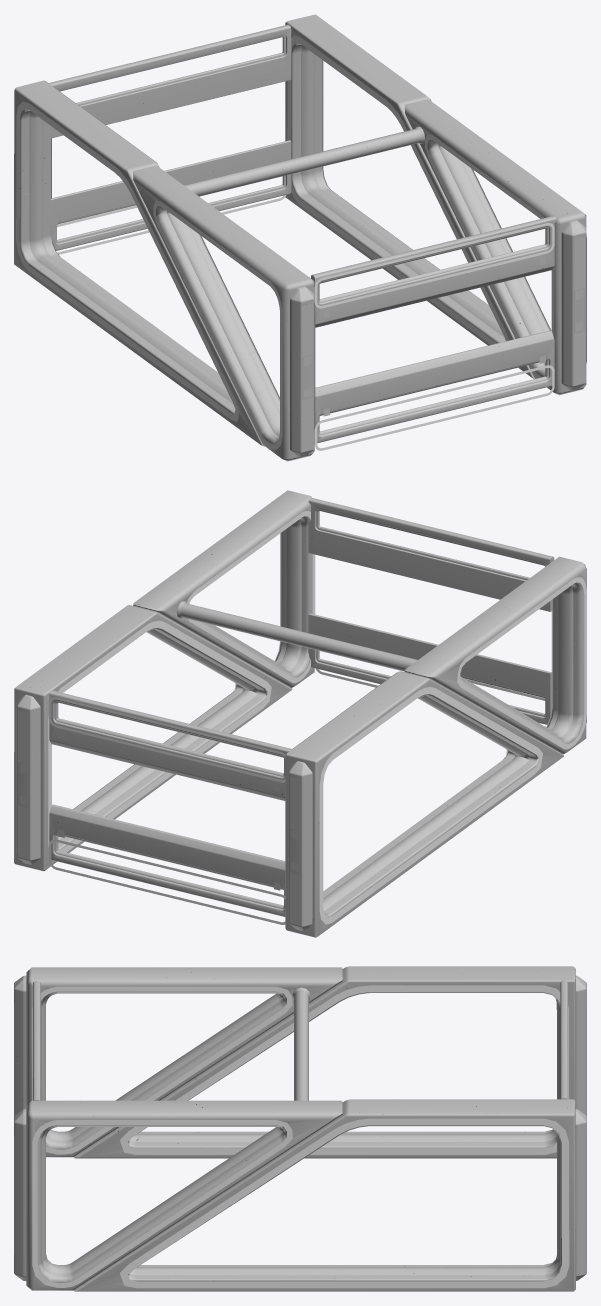
File: SM_Construction_1_Merged.fbx
The picture shows the model from 3 angles, top to bottom: view 1: azimuth 30°, elevation 25°; view 2: azimuth 150°, elevation 25°; view 3: azimuth 270°, elevation 25°; orthographic projection.
Visible parts, largest first — view 1: SM_Construction_1_Merged_LOD0; view 2: SM_Construction_1_Merged_LOD0; view 3: SM_Construction_1_Merged_LOD0.
Part boxes in pixels (x1,y1,x2,y2): SM_Construction_1_Merged_LOD0: (14,14,586,461); SM_Construction_1_Merged_LOD0: (14,490,586,937); SM_Construction_1_Merged_LOD0: (14,966,586,1291).
Bounding box in the file's own units: 354 × 574 × 198.
